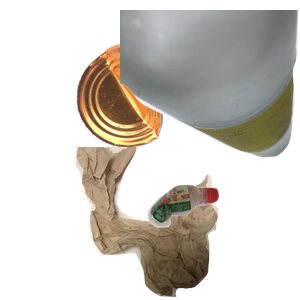glass: (120, 10, 300, 160)
metal: (74, 41, 229, 181)
plastic: (146, 182, 300, 300)
trash: (73, 147, 300, 300)
